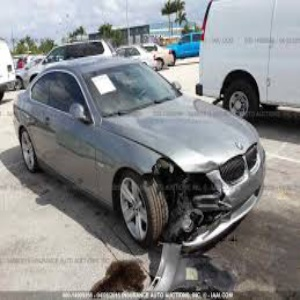bumper: (168, 182, 238, 254)
